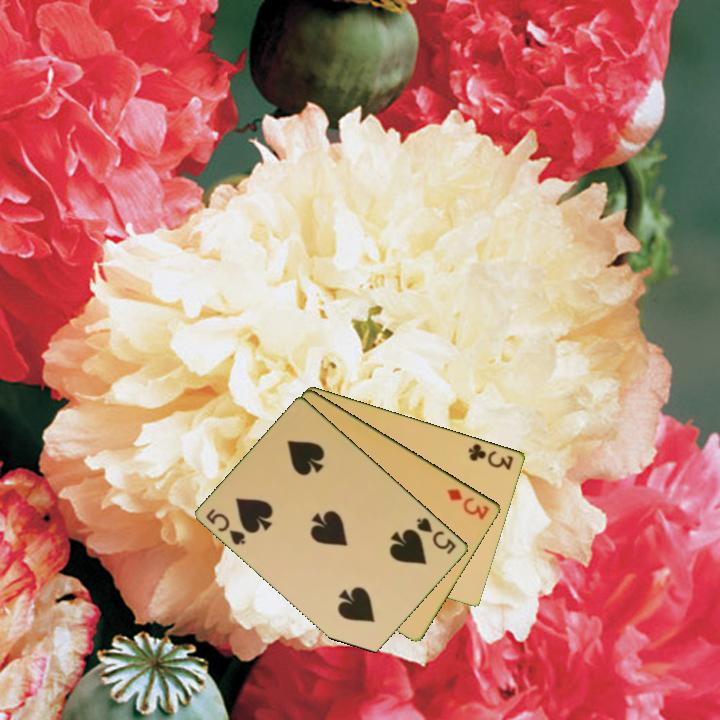3c: (465, 440, 516, 473)
3d: (444, 485, 493, 523)
5s: (413, 514, 459, 557), (203, 505, 249, 548)
